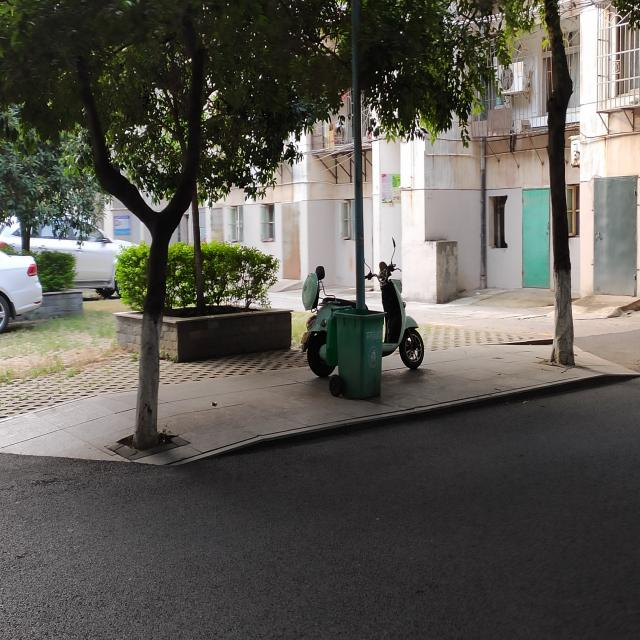ash bin: (330, 309, 386, 402)
car: (1, 210, 147, 298), (1, 248, 43, 329)
motorbike: (299, 238, 425, 377)
pole: (346, 10, 370, 307)
